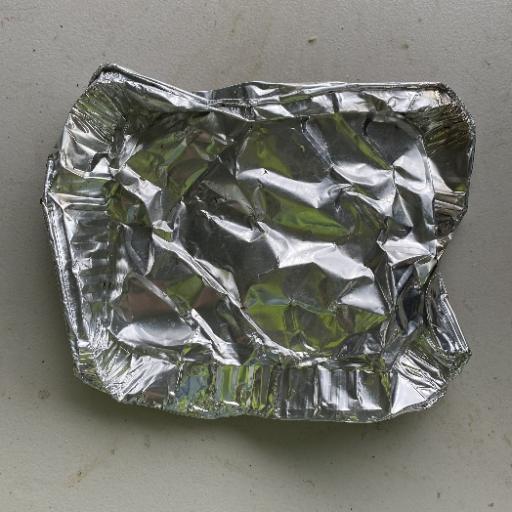Metal: (40, 62, 477, 424)
